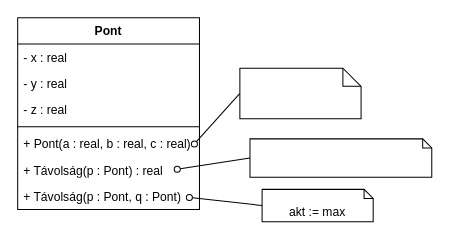
Image size: 449x239. Some labels were removed from this diagram. The centre of each missing label's shape, as x and y in pixels:
"akt := MAX(akt - adag, 0)" goes at pixel 340 157.
"x, y, z := a, b, c" goes at pixel 300 93.
